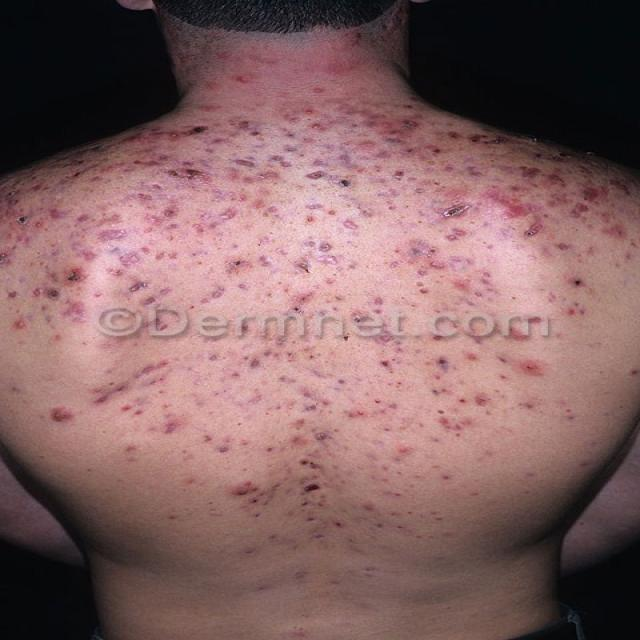acne: (270, 380, 338, 542), (174, 276, 285, 370), (33, 285, 134, 383), (244, 109, 338, 205), (44, 200, 168, 272), (478, 132, 576, 208), (198, 226, 306, 294), (408, 356, 496, 438), (145, 128, 239, 202), (150, 396, 244, 470), (444, 193, 544, 259), (324, 112, 432, 170), (275, 196, 397, 246), (494, 320, 562, 390), (385, 242, 459, 298), (230, 470, 286, 524)
